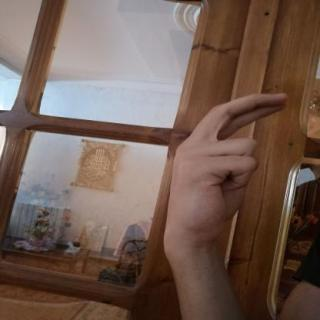ZAY: (154, 84, 299, 258)
